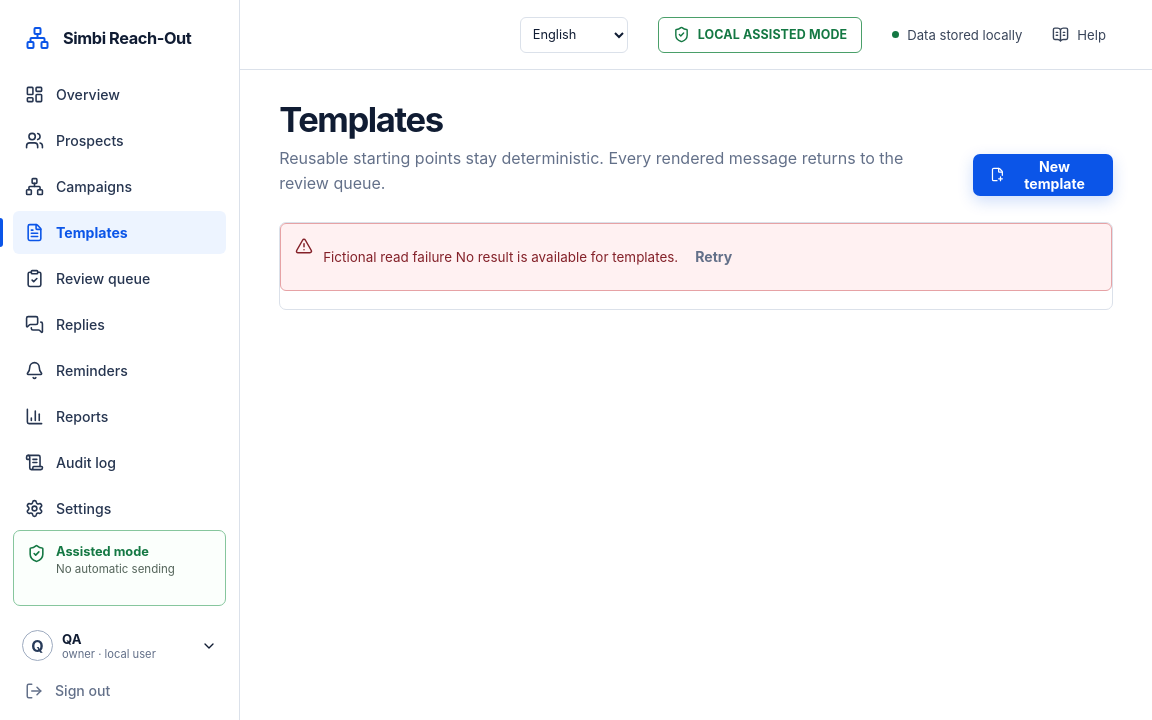
Test case: truthful loading states on every operational route › /templates distinguishes failure from emptiness and can retry
Expected: the text "Fictional read failure" is shown, [323,249,452,265]
Expected: the text "No templates" is not shown
Click the button "Retry".
click(714, 257)  # box [678,236,749,278]
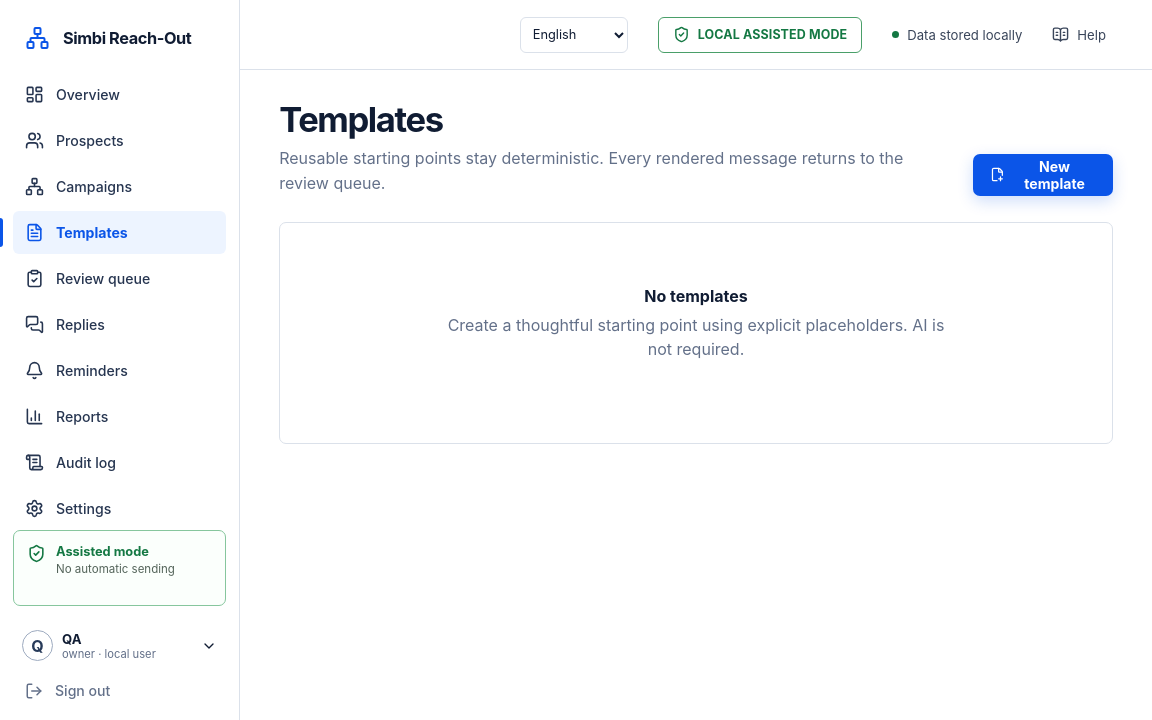
Expected: the heading "No templates" is shown, [644,286,748,306]
Expected: the text "Fictional read failure" is gone
